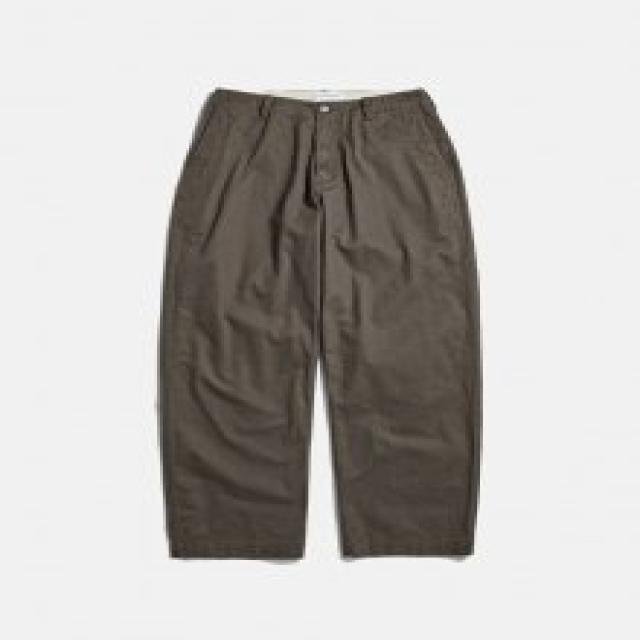long-pants: (158, 90, 488, 562)
